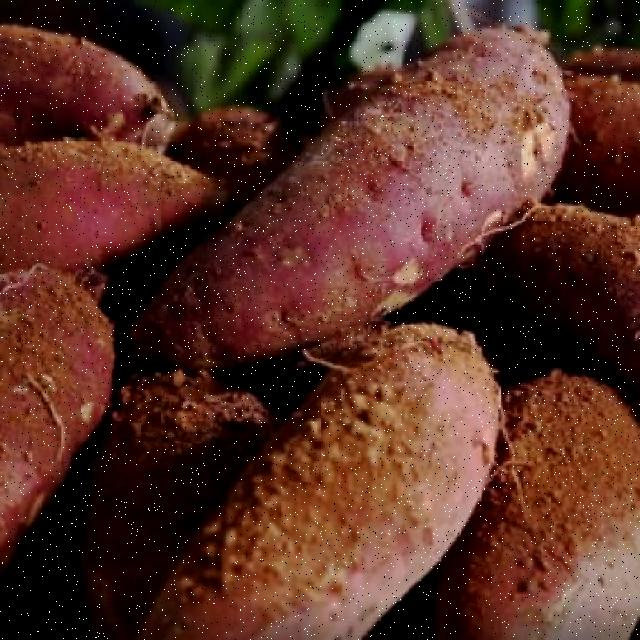Sweet Potato: (134, 33, 592, 375)
